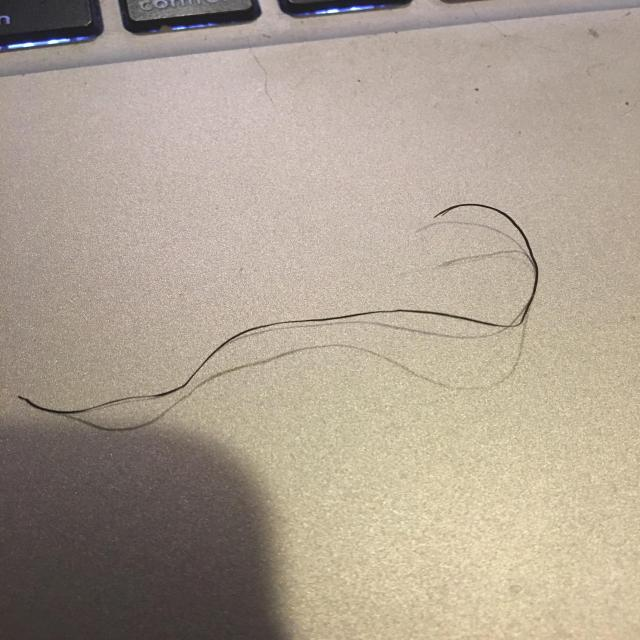hair: (9, 190, 545, 431)
